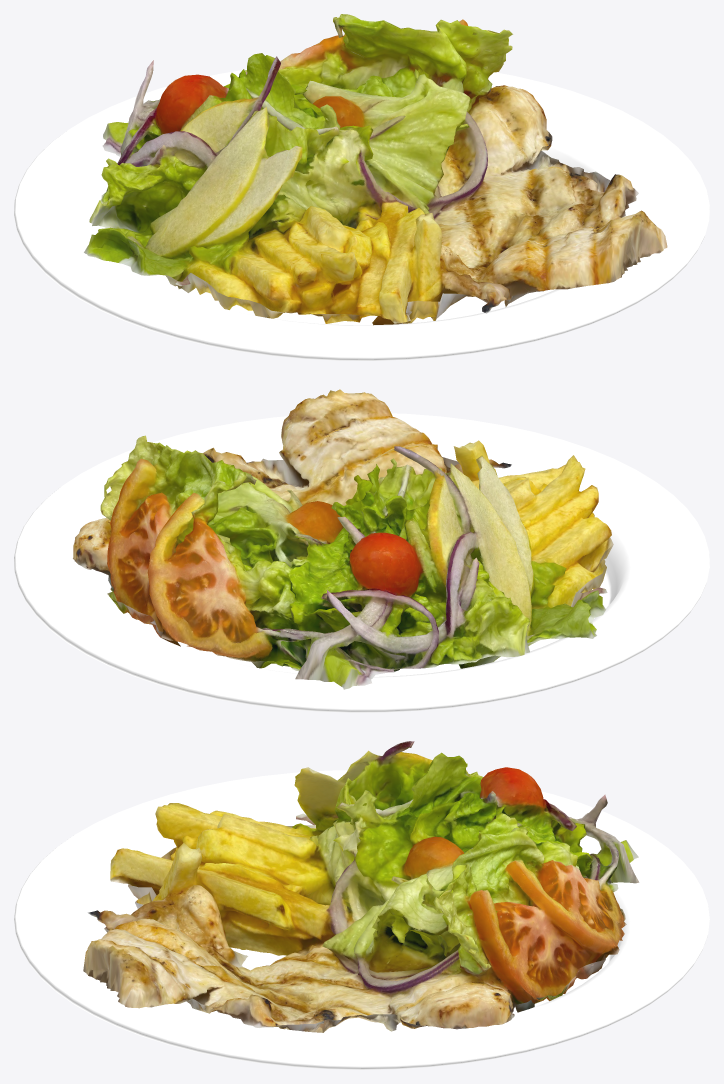
The model's file is FrangoKid.glb.
The picture shows the model from 3 angles, top to bottom: view 1: azimuth 30°, elevation 25°; view 2: azimuth 150°, elevation 25°; view 3: azimuth 270°, elevation 25°; orthographic projection.
Visible parts, largest first — view 1: Mesh_0, Circle; view 2: Mesh_0, Circle; view 3: Mesh_0, Circle.
Boxes of the visible parts, bbox=[...] form: Mesh_0: bbox=[84, 14, 667, 325]; Circle: bbox=[14, 69, 709, 360]; Mesh_0: bbox=[73, 389, 613, 689]; Circle: bbox=[14, 413, 709, 712]; Mesh_0: bbox=[83, 741, 639, 1032]; Circle: bbox=[14, 770, 709, 1069].
Bounding box in the file's own units: 0.2371 × 0.0726 × 0.2371.
Materials: 2 (1 with a texture image).
